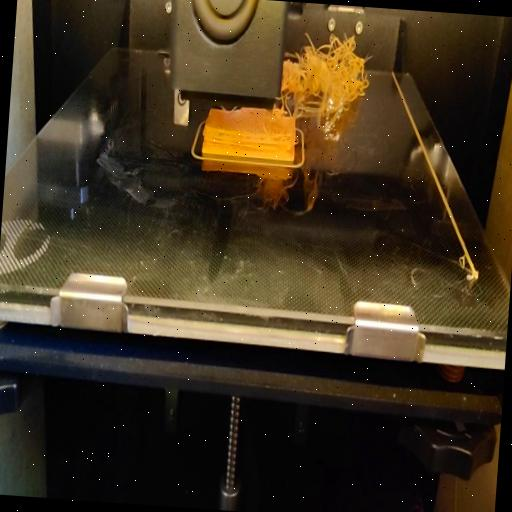spaghetti: (280, 28, 374, 132)
